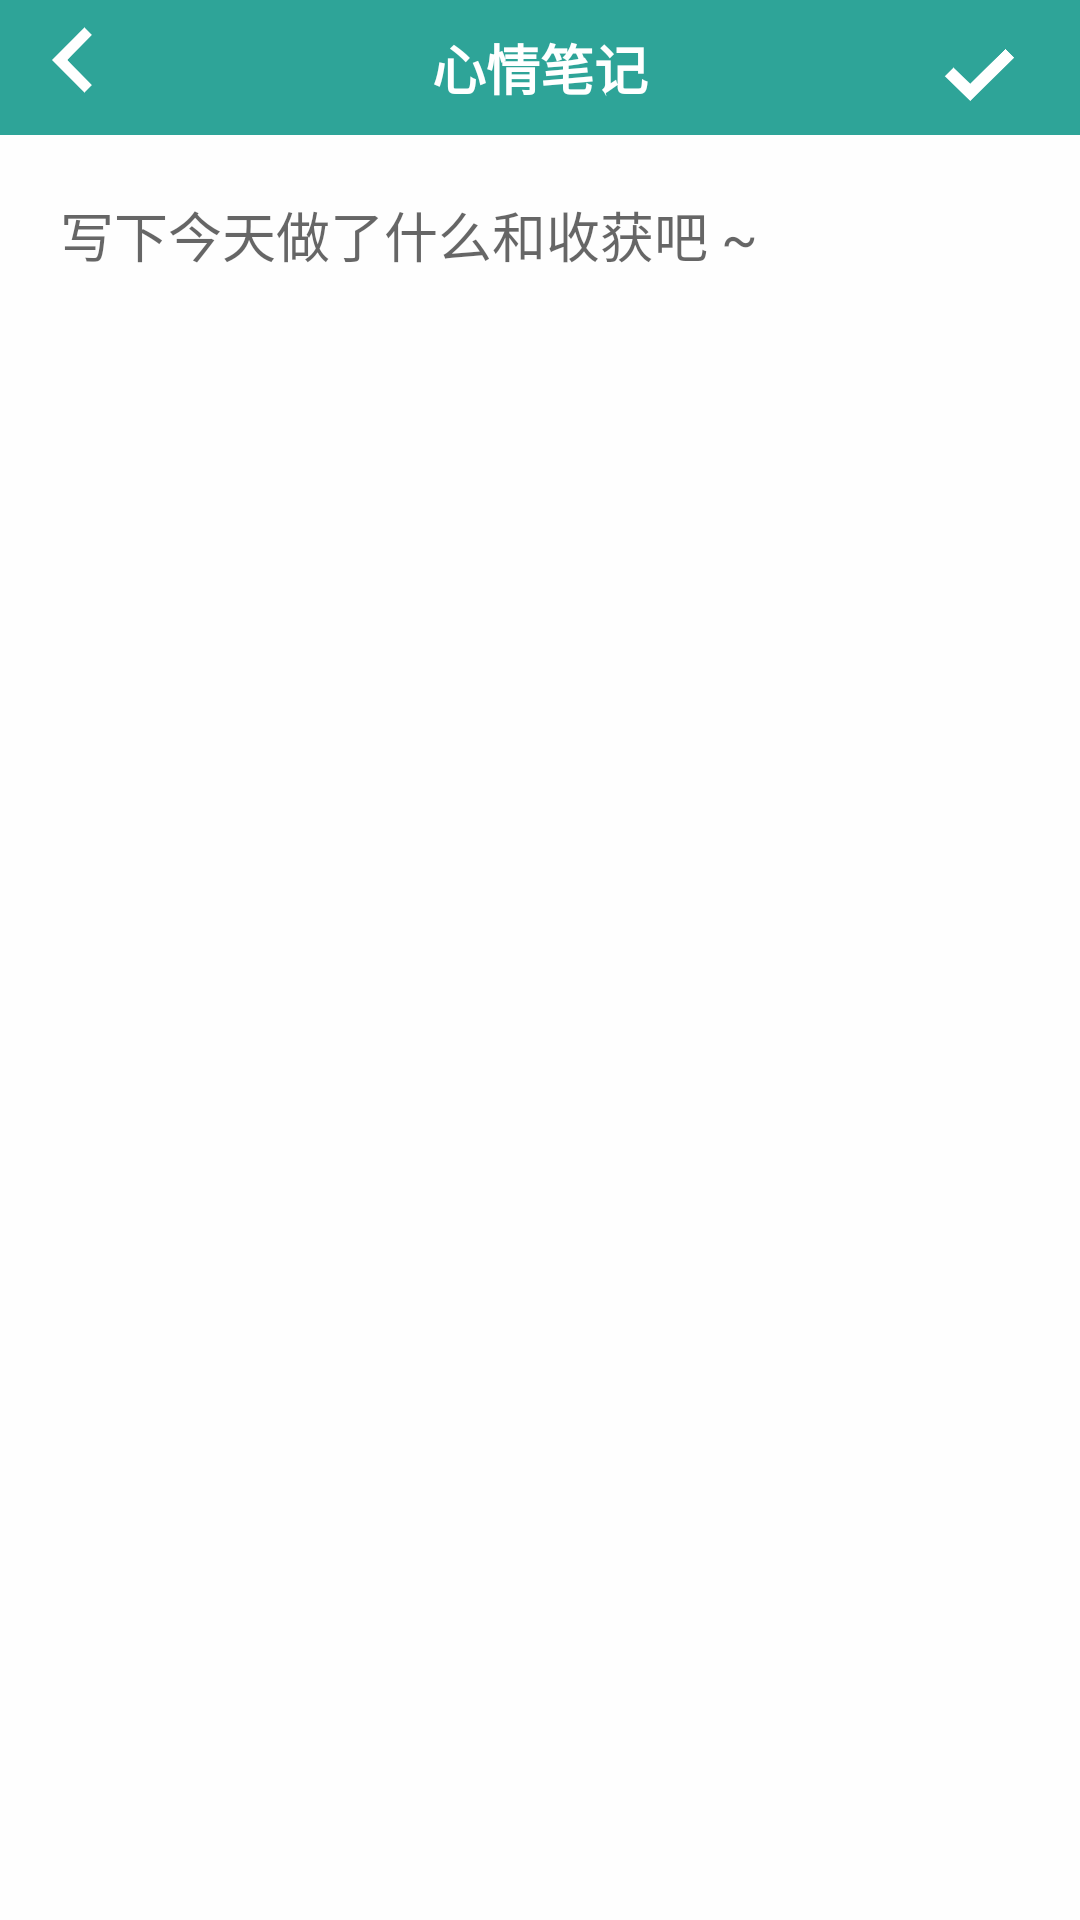

Screen size 1080x1920. Icon name, then its box in pixels as (x1, y1, x2, y2):
back: (52, 27, 92, 93)
gou: (945, 49, 1014, 101)
